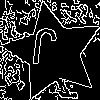J: (28, 27, 59, 76)
